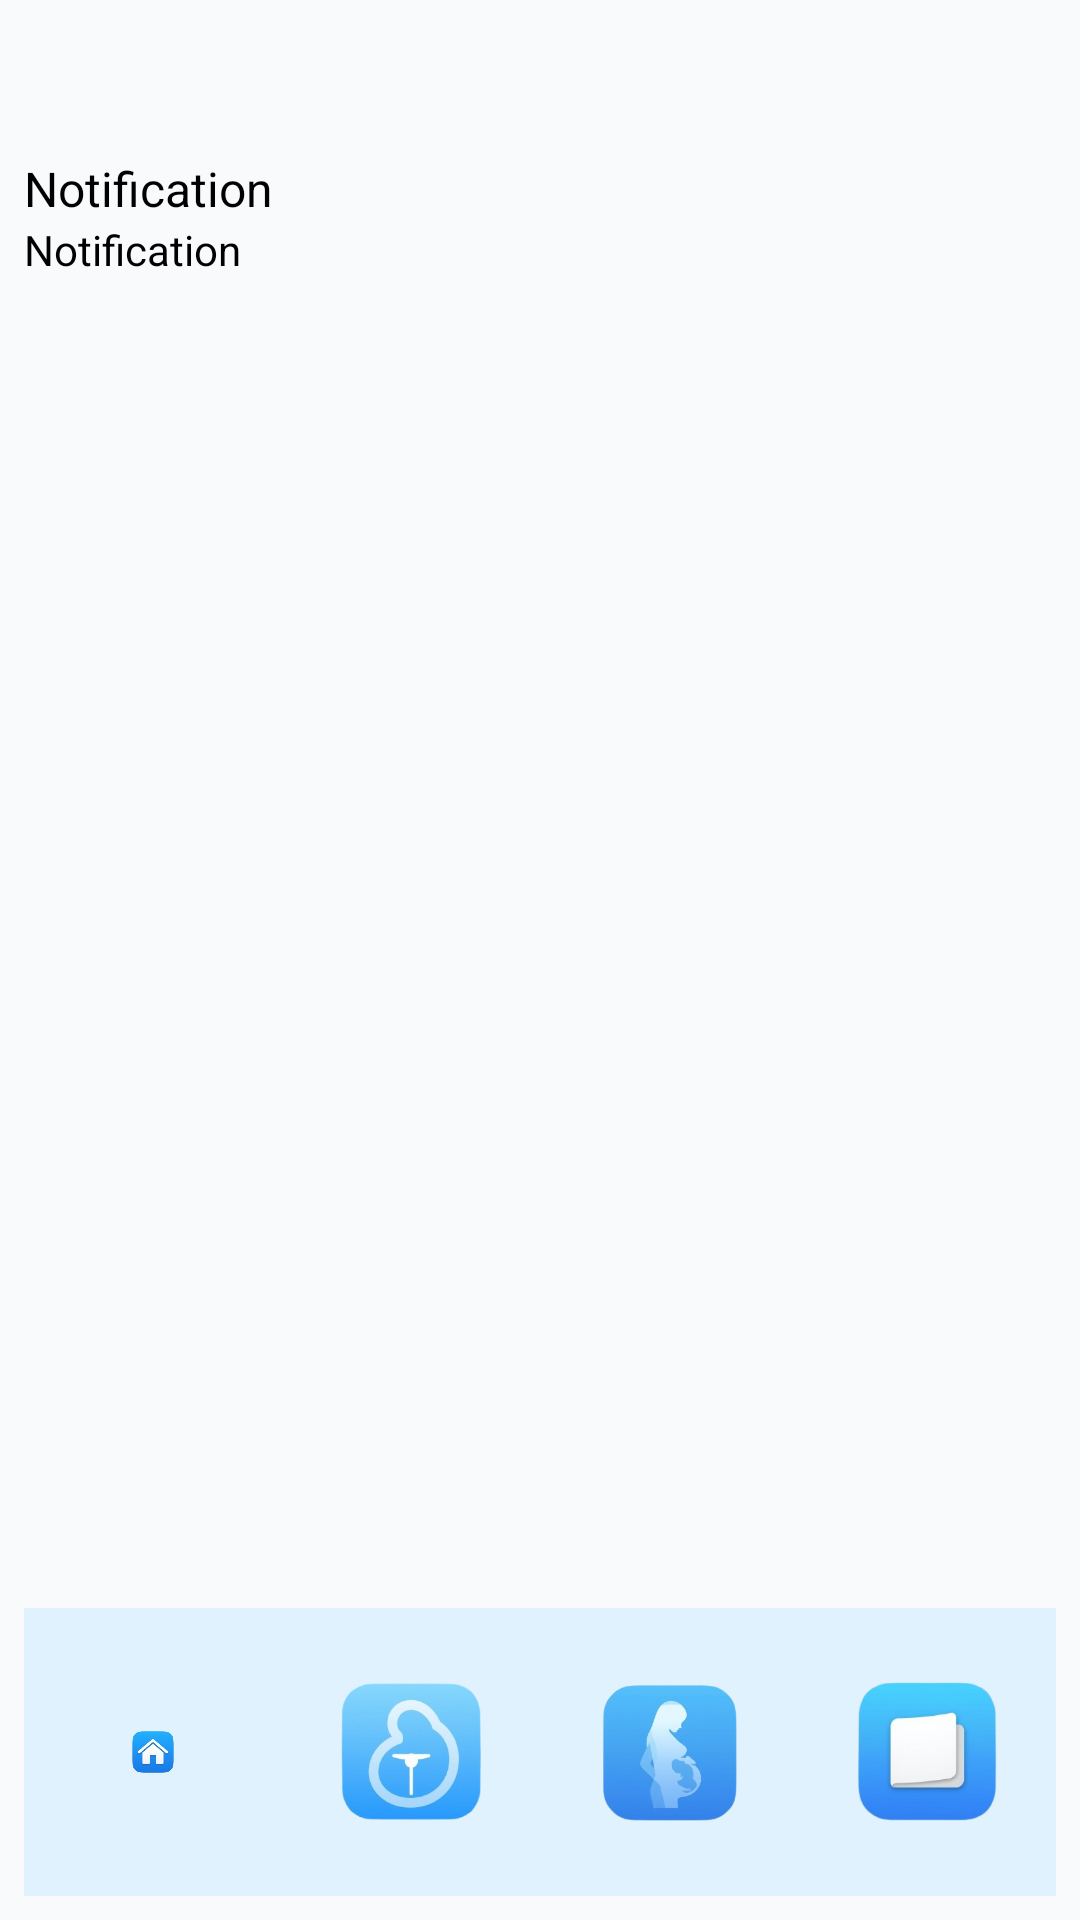

Screen size 1080px×1920px. Icon name, then its center in pixels as (x,y):
article: (927,1752)
body change: (670,1753)
home: (153,1752)
